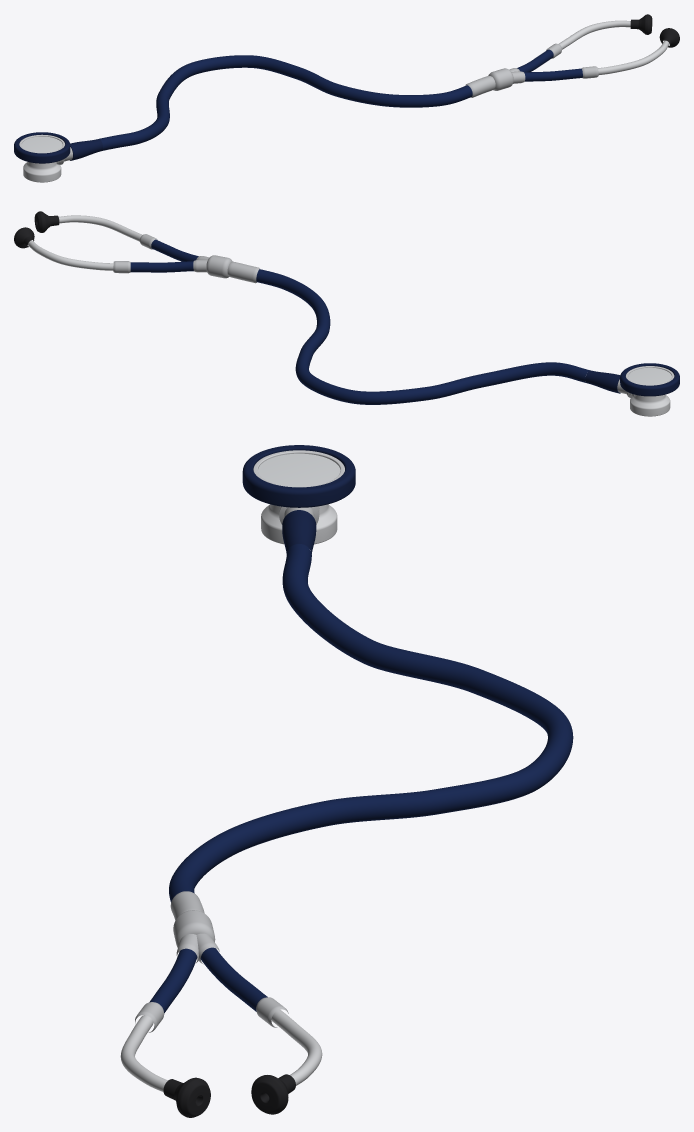
File: Stethoscope_AAA.glb
The picture shows the model from 3 angles, top to bottom: view 1: azimuth 30°, elevation 25°; view 2: azimuth 150°, elevation 25°; view 3: azimuth 270°, elevation 25°; orthographic projection. The views are drawn at different scales.
Parts seen in each view (by area): view 1: Tube_Main, Chestpiece_RimRing, Chestpiece_Body, Binaural_R_Steel, Binaural_R_Tube, Binaural_L_Steel, Diaphragm, Stem_StrainRelief, Tube_Main_Ferrule, Y_Splitter, Binaural_L_Tube, EarTip_L (+1 smaller); view 2: Tube_Main, Chestpiece_RimRing, Chestpiece_Body, Binaural_L_Steel, Binaural_L_Tube, Binaural_R_Steel, Diaphragm, Stem_StrainRelief, Tube_Main_Ferrule, Y_Splitter, Binaural_R_Tube, EarTip_R (+1 smaller); view 3: Tube_Main, Chestpiece_RimRing, Diaphragm, Binaural_L_Tube, Chestpiece_Body, EarTip_R, EarTip_L, Binaural_R_Steel, Binaural_L_Steel, Binaural_R_Tube, Stem_StrainRelief.
Boxes of the visible parts, x1,y1,x2,y2 form: Tube_Main: [99, 55, 472, 150]; Chestpiece_RimRing: [14, 132, 70, 163]; Chestpiece_Body: [23, 162, 61, 182]; Binaural_R_Steel: [598, 40, 669, 74]; Binaural_R_Tube: [524, 68, 582, 81]; Binaural_L_Steel: [559, 20, 630, 49]; Diaphragm: [21, 136, 62, 153]; Stem_StrainRelief: [70, 139, 102, 160]; Tube_Main_Ferrule: [465, 76, 495, 97]; Y_Splitter: [488, 68, 513, 90]; Binaural_L_Tube: [517, 49, 553, 72]; EarTip_L: [630, 14, 652, 34]; Tube_Main: [256, 269, 589, 404]; Chestpiece_RimRing: [620, 363, 679, 396]; Chestpiece_Body: [630, 394, 670, 416]; Binaural_L_Steel: [28, 240, 113, 270]; Binaural_L_Tube: [130, 261, 193, 272]; Binaural_R_Steel: [58, 215, 142, 241]; Diaphragm: [628, 367, 671, 385]; Stem_StrainRelief: [585, 370, 620, 393]; Tube_Main_Ferrule: [227, 261, 259, 283]; Y_Splitter: [206, 255, 232, 278]; Binaural_R_Tube: [151, 239, 198, 261]; EarTip_R: [34, 211, 59, 232]; Tube_Main: [169, 544, 573, 902]; Chestpiece_RimRing: [242, 445, 355, 507]; Diaphragm: [258, 453, 340, 487]; Binaural_L_Tube: [200, 947, 267, 1011]; Chestpiece_Body: [261, 504, 337, 544]; EarTip_R: [163, 1077, 210, 1117]; EarTip_L: [251, 1074, 295, 1114]; Binaural_R_Steel: [120, 1015, 167, 1091]; Binaural_L_Steel: [271, 1010, 322, 1085]; Binaural_R_Tube: [149, 948, 197, 1013]; Stem_StrainRelief: [282, 510, 316, 553].
Bounding box in the file's own units: 0.6369 × 0.0303 × 0.1971.
